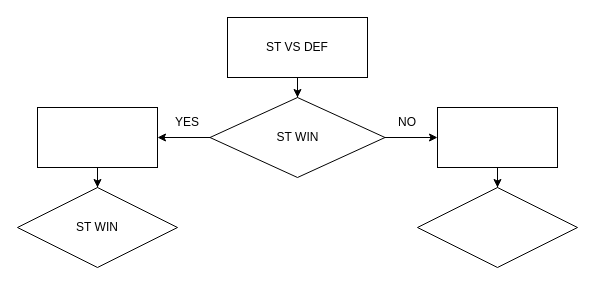
The diagram is 595 pixels wide and 285 high, and some of its shapes have lost their labels. The shapes that lost their labels are listed below. From the top down, each one's box as (x1, y1, x2, y2) in pixels, then its label:
(36, 106, 158, 168): ST VS MF
(436, 106, 558, 168): DEF VS ST
